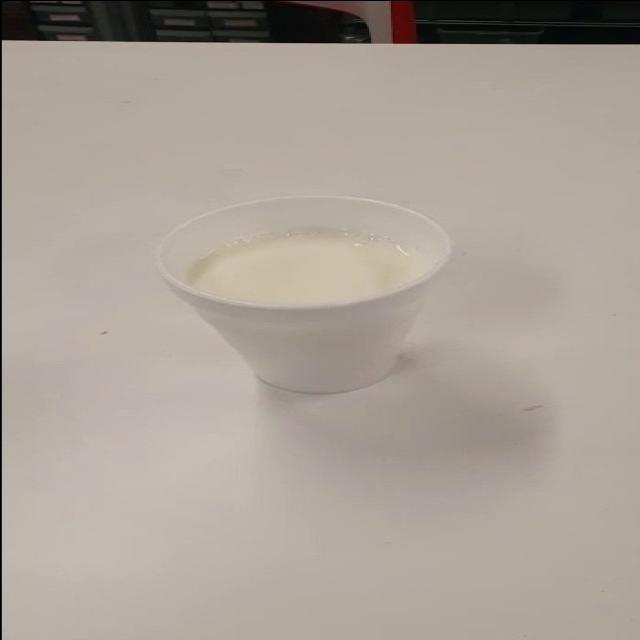Milk: (141, 183, 508, 421)
